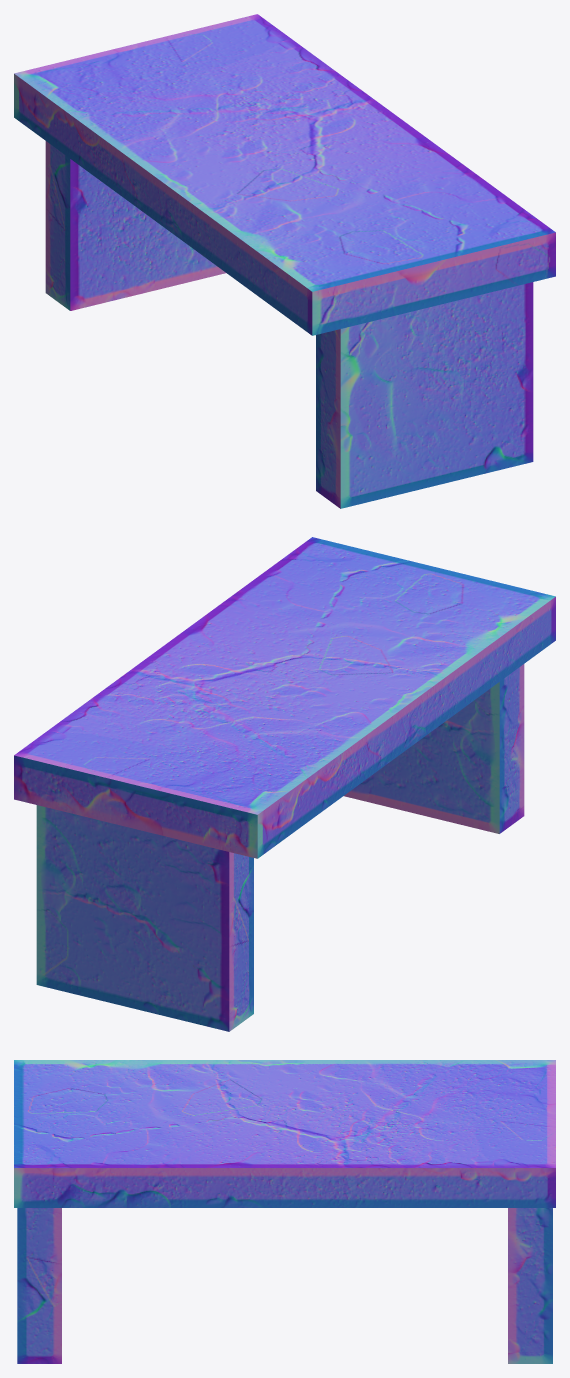
The model's file is Props_StoneTable.fbx.
The picture shows the model from 3 angles, top to bottom: view 1: azimuth 30°, elevation 25°; view 2: azimuth 150°, elevation 25°; view 3: azimuth 270°, elevation 25°; orthographic projection. The views are drawn at different scales.
Visible parts, largest first — view 1: CDTMesh_StoneTable, CDTMesh_StoneTableHP; view 2: CDTMesh_StoneTable, CDTMesh_StoneTableHP; view 3: CDTMesh_StoneTable, CDTMesh_StoneTableHP.
Part boxes in pixels (box(x1,y1,x2,y2)): CDTMesh_StoneTable: box(14, 14, 555, 508); CDTMesh_StoneTableHP: box(19, 19, 547, 496); CDTMesh_StoneTable: box(14, 537, 555, 1031); CDTMesh_StoneTableHP: box(22, 543, 541, 1021); CDTMesh_StoneTable: box(14, 1060, 555, 1363); CDTMesh_StoneTableHP: box(22, 1063, 547, 1356).
Size of what is drawn, in the model's own units: 1.24 by 1.1 by 2.64.
